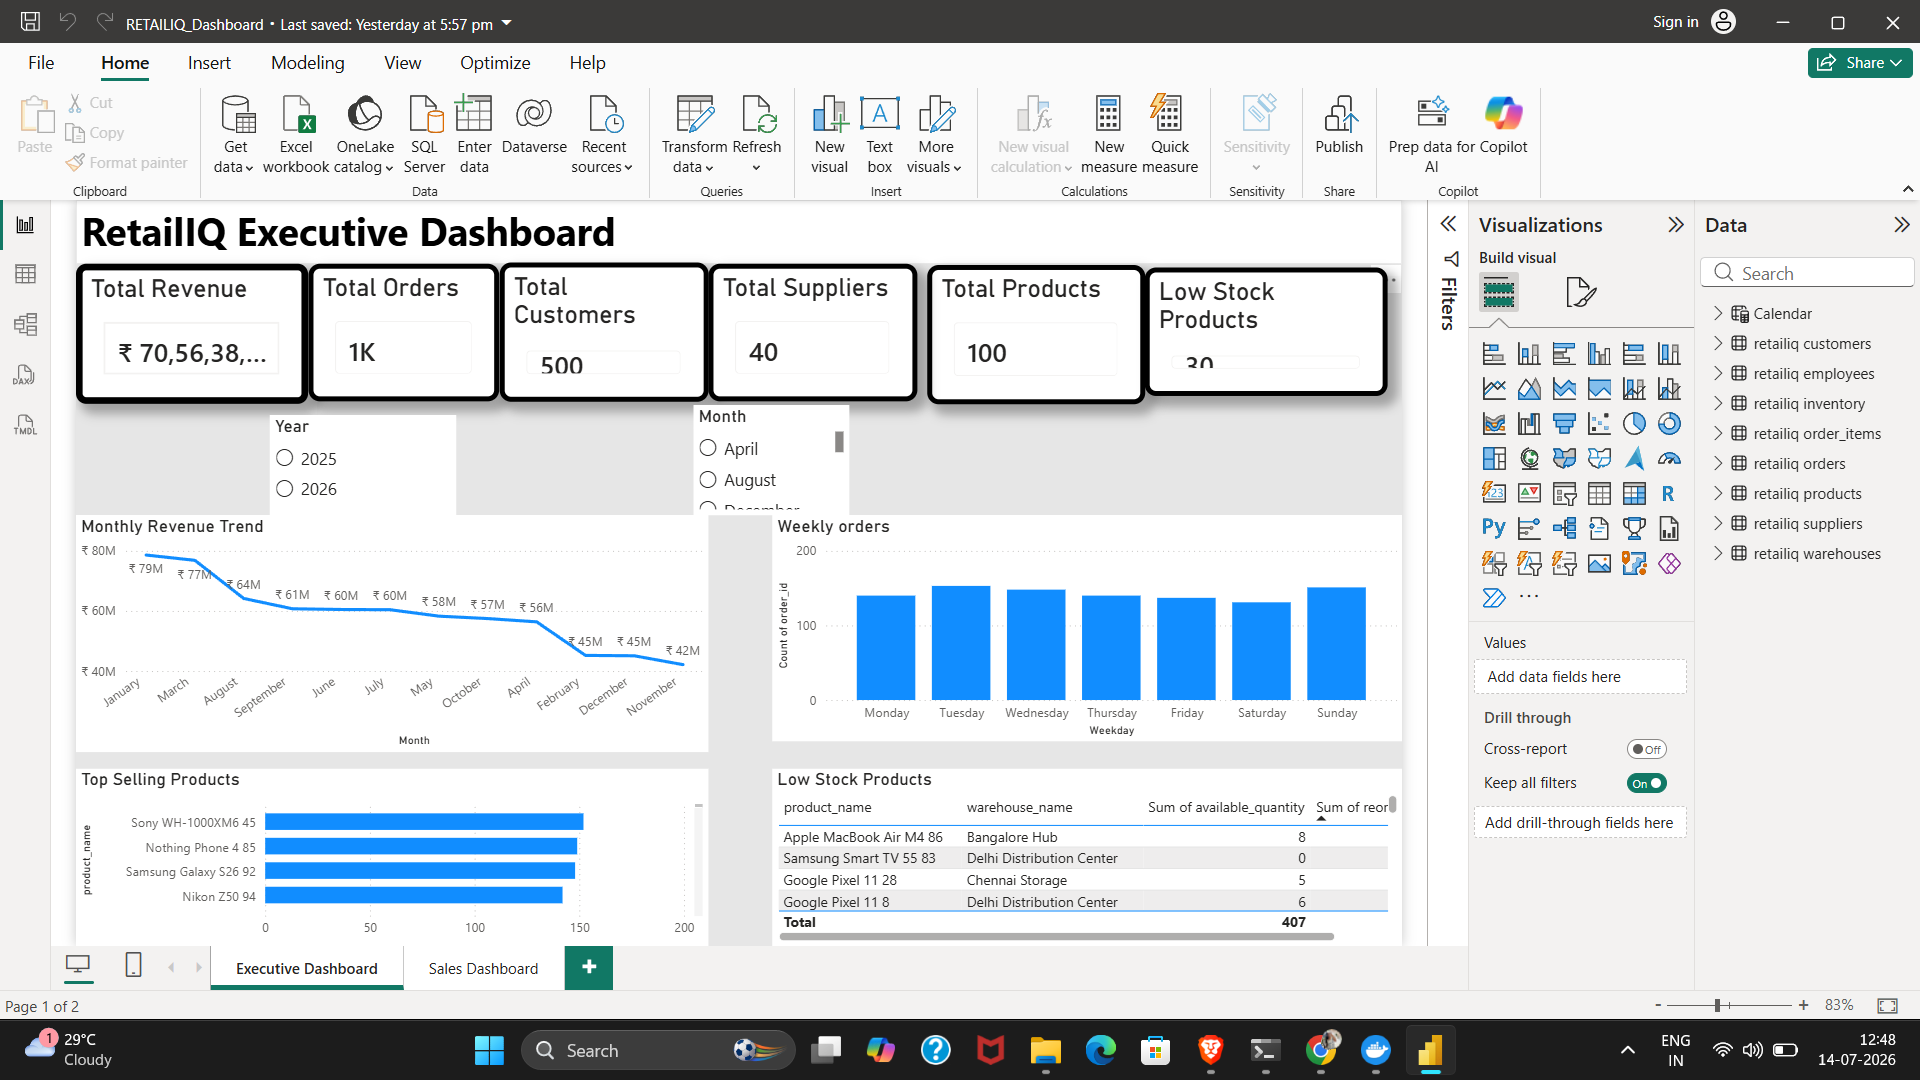

This screenshot's page, from the dashboard's own definition file:
{"tool":"powerbi","page":{"name":"Executive Dashboard","canvas":[1280,720],"ordinal":0},"visuals":[{"type":"textbox","box":[0,0,1280,61.5],"z":0},{"type":"cardVisual","title":"Total Revenue","fields":{"Data":["Sum(retailiq orders.grand_total)"]},"box":[0,62,224,135],"z":1000},{"type":"cardVisual","title":"Total Orders","fields":{"Data":["Count(retailiq orders.order_id)"]},"box":[224.3,61.4,184.3,132.9],"z":2000},{"type":"cardVisual","title":"Total Customers","fields":{"Data":["Count(retailiq customers.customer_id)"]},"box":[408.6,60,201.4,134.3],"z":3000},{"type":"cardVisual","title":"Total Products","fields":{"Data":["Count(retailiq products.product_id)"]},"box":[821.4,62.9,210,134.3],"z":4000},{"type":"cardVisual","title":"Total Suppliers","fields":{"Data":["Count(retailiq suppliers.supplier_id)"]},"box":[610,61.4,201.4,132.9],"z":5000},{"type":"cardVisual","title":"Low Stock Products","fields":{"Data":["retailiq inventory.Low Stock Products"]},"box":[1031.4,65.7,234.3,124.3],"z":6000},{"type":"lineChart","title":"Monthly Revenue Trend","fields":{"Y":["Sum(retailiq orders.grand_total)"],"Category":["Calendar.Month"]},"box":[0,304.3,610,228.6],"z":7000},{"type":"lineClusteredColumnComboChart","title":"Weekly orders","fields":{"Y":["CountNonNull(retailiq orders.order_id)"],"Category":["Calendar.Weekday"]},"box":[671.4,304.3,608.6,218.6],"z":8000},{"type":"listSlicer","fields":{"Values":["Calendar.Month"]},"box":[596.2,197.4,150,106.4],"z":9000},{"type":"clusteredBarChart","title":"Top Selling Products","fields":{"Category":["retailiq products.product_name"],"Y":["Sum(retailiq order_items.quantity)"]},"box":[0,548.6,610,171.4],"z":10000},{"type":"tableEx","title":"Low Stock Products","fields":{"Values":["retailiq products.product_name","retailiq warehouses.warehouse_name","Sum(retailiq inventory.available_quantity)","Sum(retailiq inventory.reorder_level)"]},"box":[671.4,548.6,608.6,171.4],"z":11000},{"type":"listSlicer","fields":{"Values":["Calendar.Year"]},"box":[187.1,207.1,180,97.1],"z":12000}]}

Visuals, with their boxes on the page's 1280x720 design canvas (x1, y1, x2, y2). These are canvas units, not pixel positions in the 1920x1080 screenshot, which may show the page scaled, cropped or inside an application window:
textbox: region(0, 0, 1280, 62)
"Total Revenue" cardVisual: region(0, 62, 224, 197)
"Total Orders" cardVisual: region(224, 61, 409, 194)
"Total Customers" cardVisual: region(409, 60, 610, 194)
"Total Products" cardVisual: region(821, 63, 1031, 197)
"Total Suppliers" cardVisual: region(610, 61, 811, 194)
"Low Stock Products" cardVisual: region(1031, 66, 1266, 190)
"Monthly Revenue Trend" lineChart: region(0, 304, 610, 533)
"Weekly orders" lineClusteredColumnComboChart: region(671, 304, 1280, 523)
listSlicer - Calendar.Month: region(596, 197, 746, 304)
"Top Selling Products" clusteredBarChart: region(0, 549, 610, 720)
"Low Stock Products" tableEx: region(671, 549, 1280, 720)
listSlicer - Calendar.Year: region(187, 207, 367, 304)
